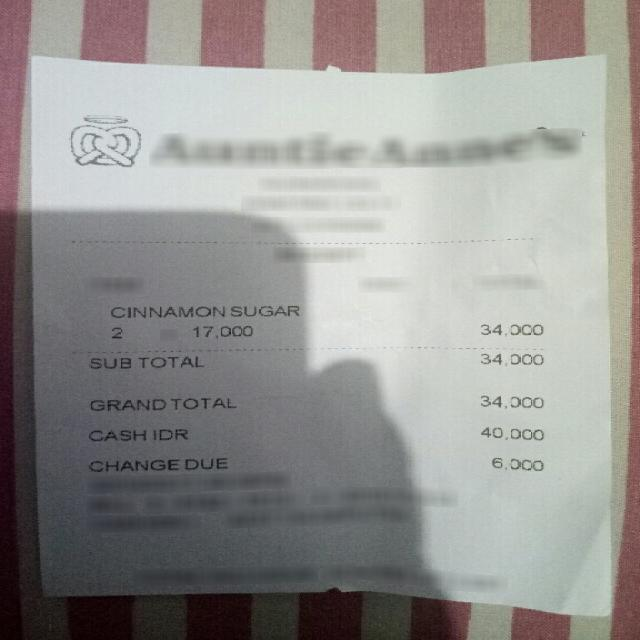kertas: (33, 57, 614, 615)
